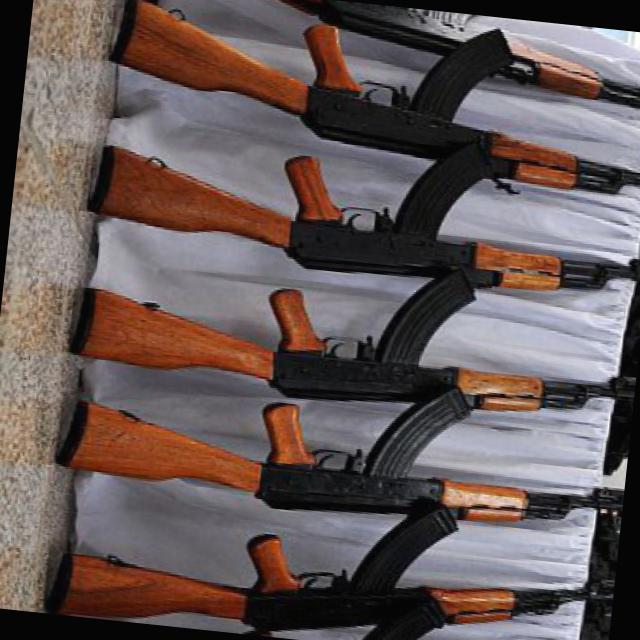long weapon: (61, 129, 639, 332), (60, 270, 638, 440)
